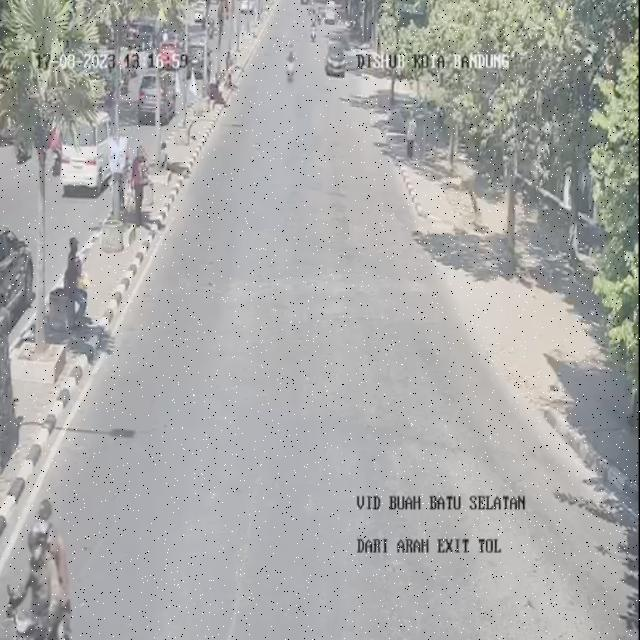cars: (324, 41, 348, 76)
motorcycle: (18, 502, 82, 638), (282, 38, 299, 87), (308, 17, 320, 43)
